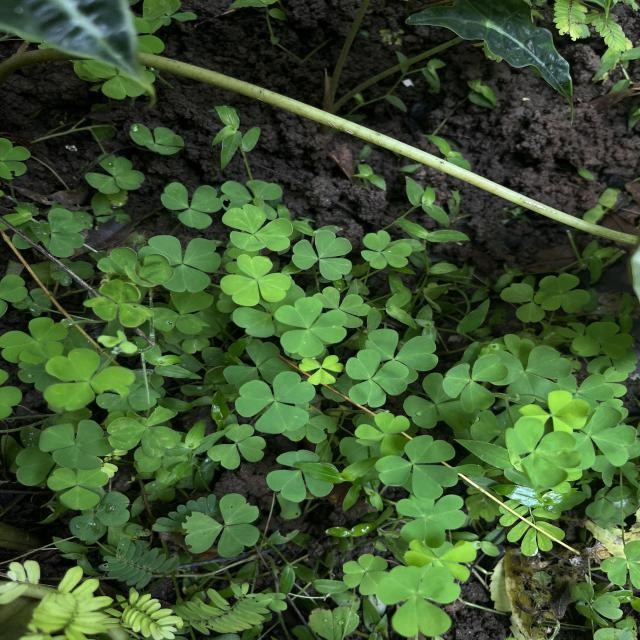Oxalis corniculata: (42, 346, 137, 412), (374, 434, 459, 500), (180, 493, 260, 558), (235, 370, 316, 434), (138, 234, 222, 294), (274, 296, 348, 358), (395, 492, 468, 550), (441, 352, 509, 414), (38, 418, 117, 471), (344, 348, 410, 408), (220, 254, 290, 308), (266, 448, 334, 503), (81, 279, 155, 329), (222, 204, 296, 252), (518, 388, 590, 436), (0, 316, 69, 365), (291, 229, 354, 281), (160, 182, 223, 230), (207, 422, 267, 470), (46, 467, 110, 510), (84, 152, 146, 195), (571, 320, 635, 360), (533, 273, 594, 314), (359, 230, 413, 270), (342, 552, 389, 596), (128, 122, 186, 156), (298, 354, 344, 386)
